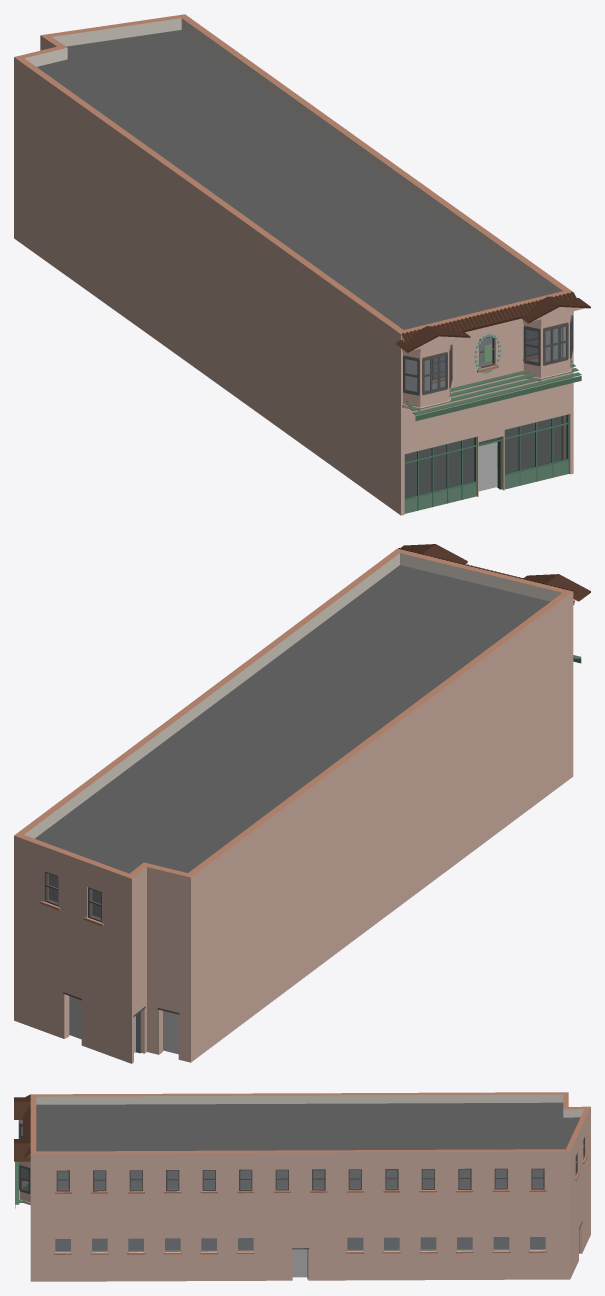
The model's file is exterior.glb.
The picture shows the model from 3 angles, top to bottom: view 1: azimuth 30°, elevation 25°; view 2: azimuth 150°, elevation 25°; view 3: azimuth 270°, elevation 25°; orthographic projection. The views are drawn at different scales.
Visible parts, largest first — view 1: shell, roof, shadow-proxy, glazing, storefront, bay-glazing-hyb, awning-spans-4, bay-windows-hyb, hand-ornament, tile-eave; view 2: shell, roof, shadow-proxy, hand-ornament; view 3: shell, roof, glazing, shadow-proxy, frames, trim, hand-ornament, bay-glazing-hyb, tile-eave, awning-spans-4.
Part boxes in pixels (<box>): shell: <box>14,14,573,515</box>; roof: <box>37,30,550,329</box>; shadow-proxy: <box>405,328,561,497</box>; glazing: <box>405,330,567,498</box>; storefront: <box>404,414,569,513</box>; bay-glazing-hyb: <box>403,315,573,395</box>; awning-spans-4: <box>406,360,581,420</box>; bay-windows-hyb: <box>402,311,573,410</box>; hand-ornament: <box>396,296,590,373</box>; tile-eave: <box>401,292,578,343</box>; shell: <box>14,548,573,1063</box>; roof: <box>35,565,550,873</box>; shadow-proxy: <box>49,874,178,1054</box>; hand-ornament: <box>400,544,590,601</box>; shell: <box>30,1092,590,1281</box>; roof: <box>36,1102,580,1151</box>; glazing: <box>55,1139,583,1252</box>; shadow-proxy: <box>55,1169,545,1277</box>; frames: <box>56,1137,584,1191</box>; trim: <box>54,1155,587,1254</box>; hand-ornament: <box>14,1097,30,1161</box>; bay-glazing-hyb: <box>18,1120,30,1194</box>; tile-eave: <box>23,1094,30,1157</box>; awning-spans-4: <box>15,1161,28,1208</box>.
Size of the model in its own units: 9.54 by 9.08 by 36.68.
